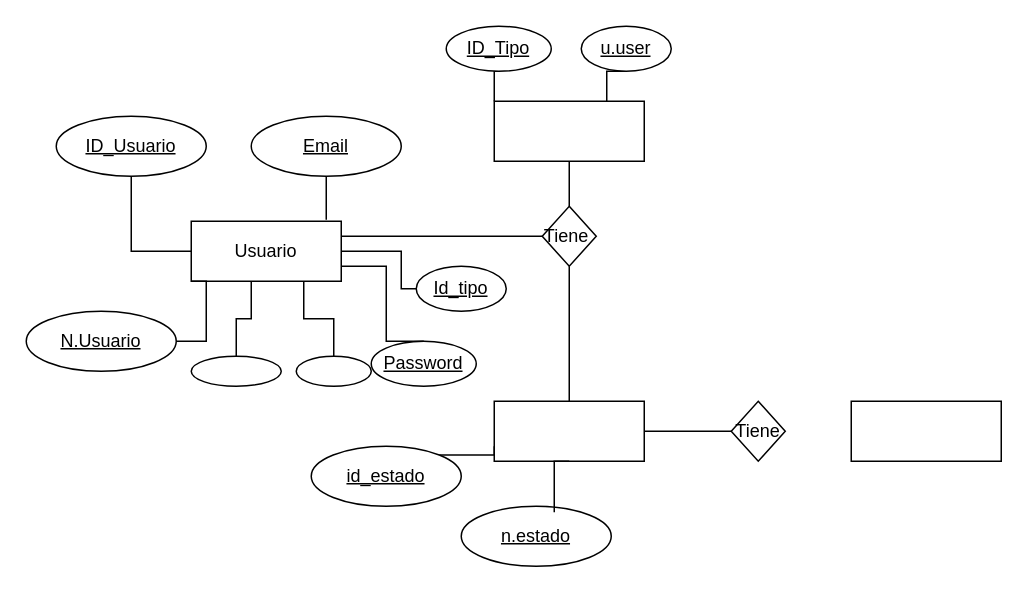
The diagram is 1028 pixels wide and 593 high, and some of its shapes have lost their labels. The centre of each missing label's shape, as x and y in pixels:
"Am" belongs at [333,370].
"Ap" belongs at [235,370].
"Entity" belongs at [925,430].
"Estado" belongs at [568,430].
"User" belongs at [568,130].
